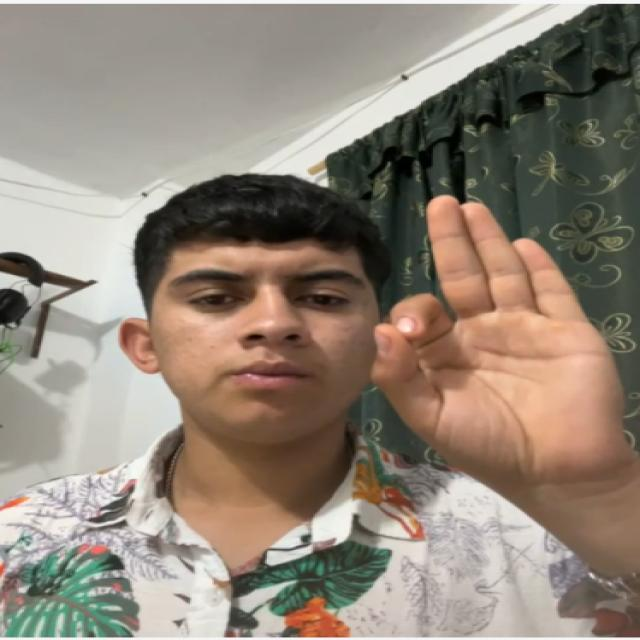F: (357, 177, 633, 498)
